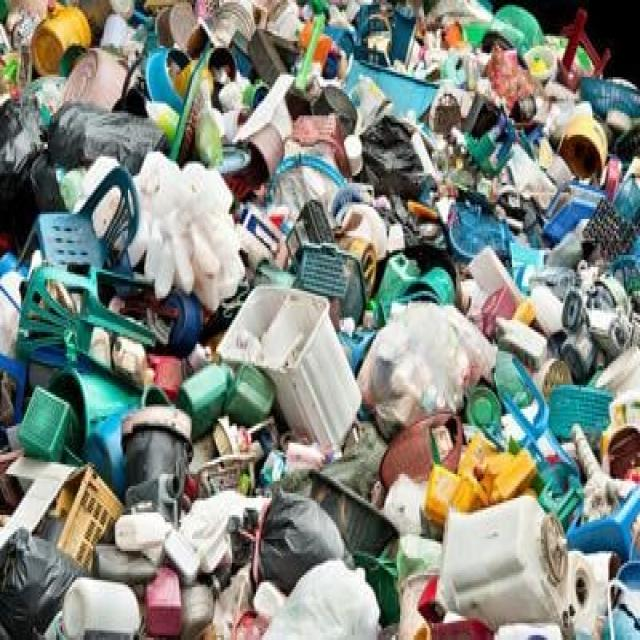cardboard: (85, 472, 107, 551)
plastic: (235, 288, 363, 442), (445, 508, 584, 616), (123, 417, 200, 518), (546, 380, 612, 443)
trash: (62, 12, 576, 260), (14, 394, 72, 466)
